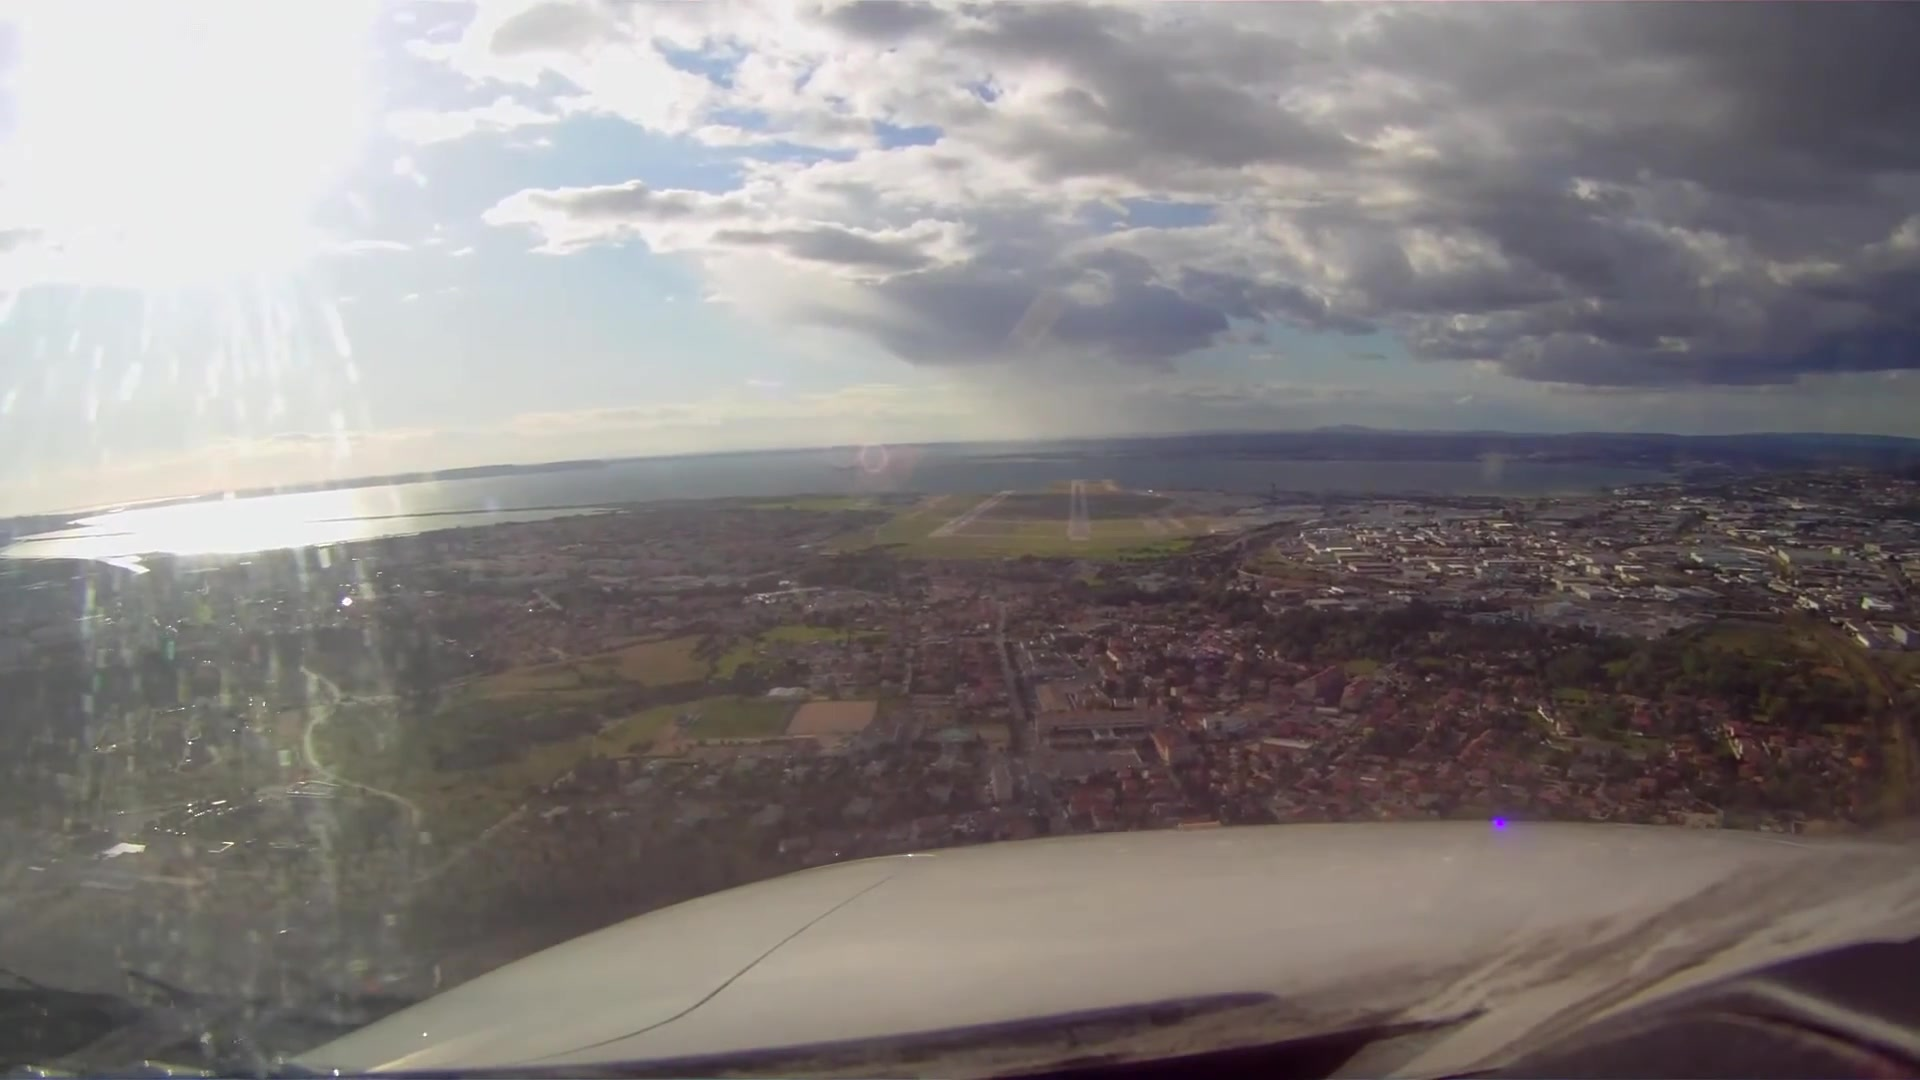runway: (928, 489, 1013, 539), (1065, 480, 1095, 541)
